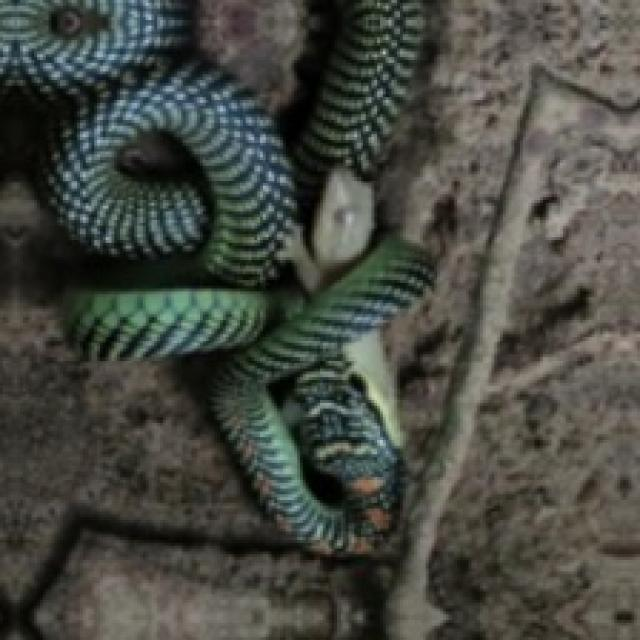paradise tree snake: (0, 0, 429, 549)
